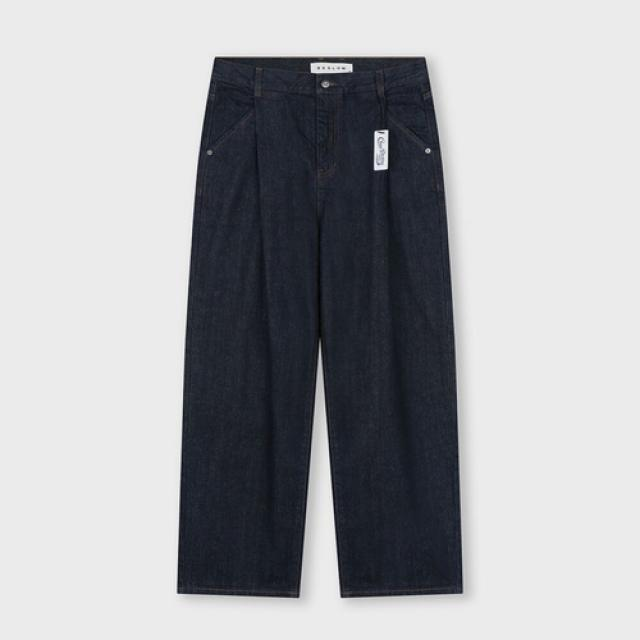Blouse_deep: (180, 51, 470, 604)
